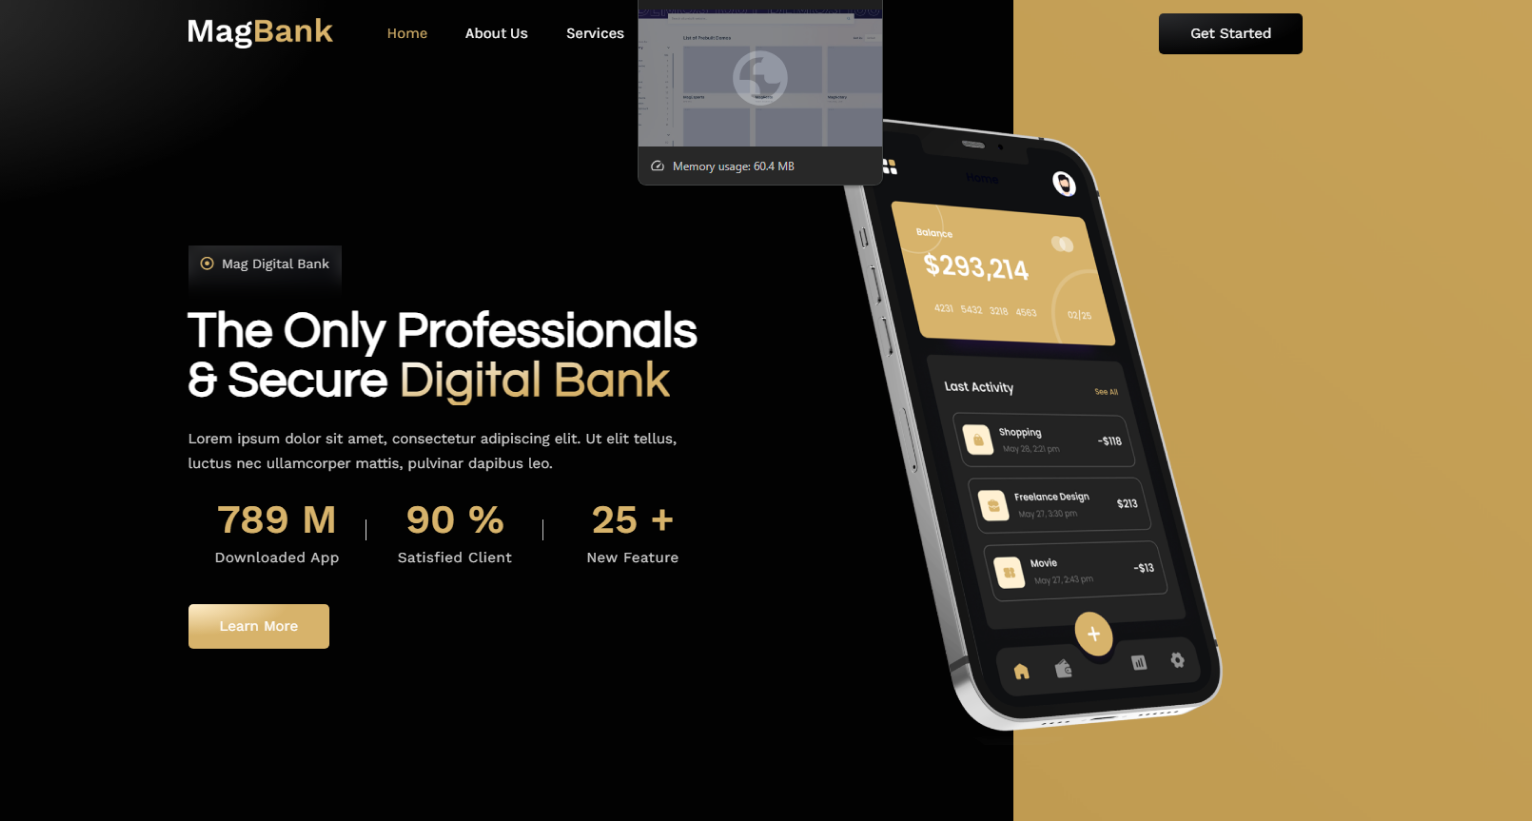menu-bar: (21, 5, 1508, 163)
